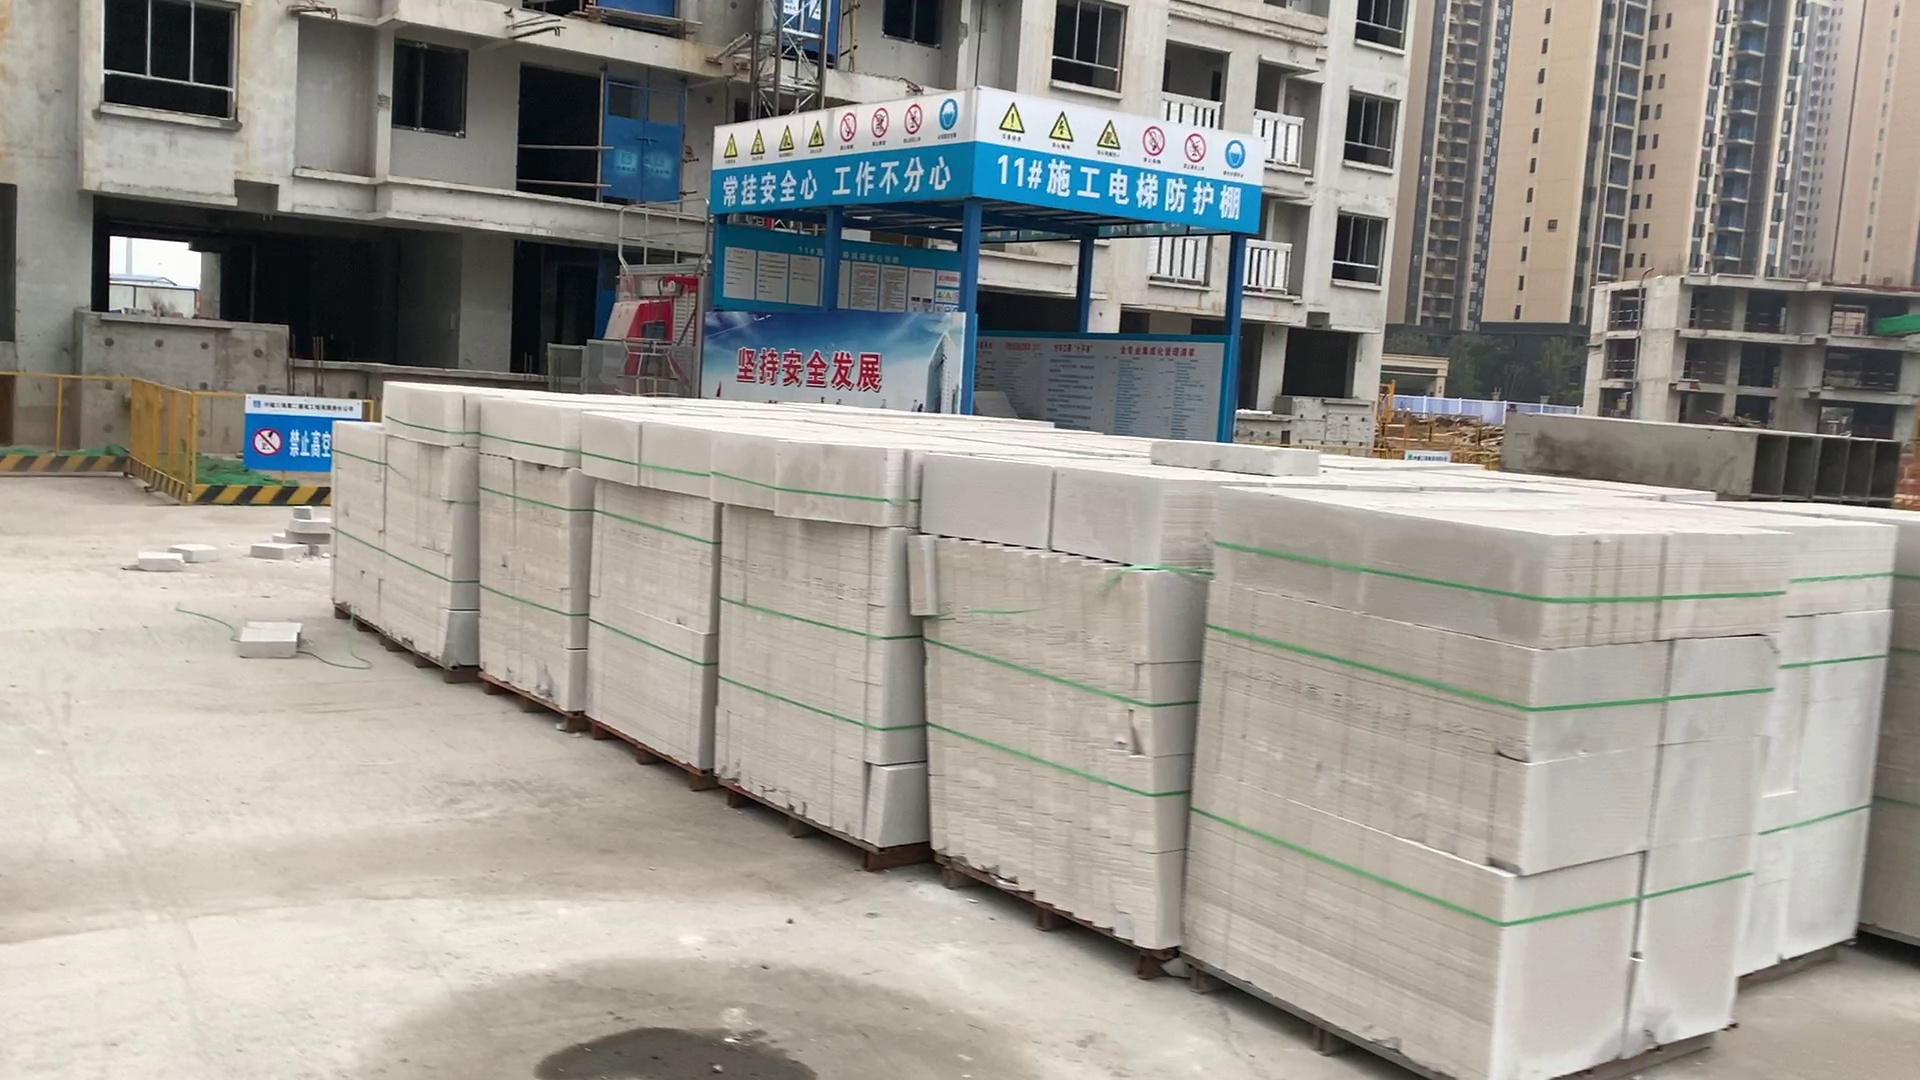brickwork: (1207, 487, 1731, 1076), (919, 443, 1180, 967), (715, 415, 899, 849), (1756, 506, 1876, 980), (582, 407, 709, 781), (331, 378, 473, 669), (469, 392, 585, 715)
